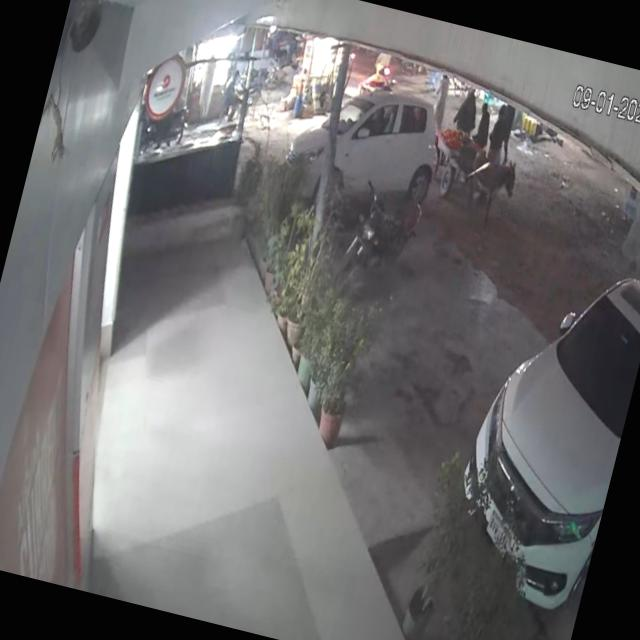Car: (432, 203, 640, 629), (259, 51, 459, 216)
Motorcycle: (338, 168, 430, 295)
